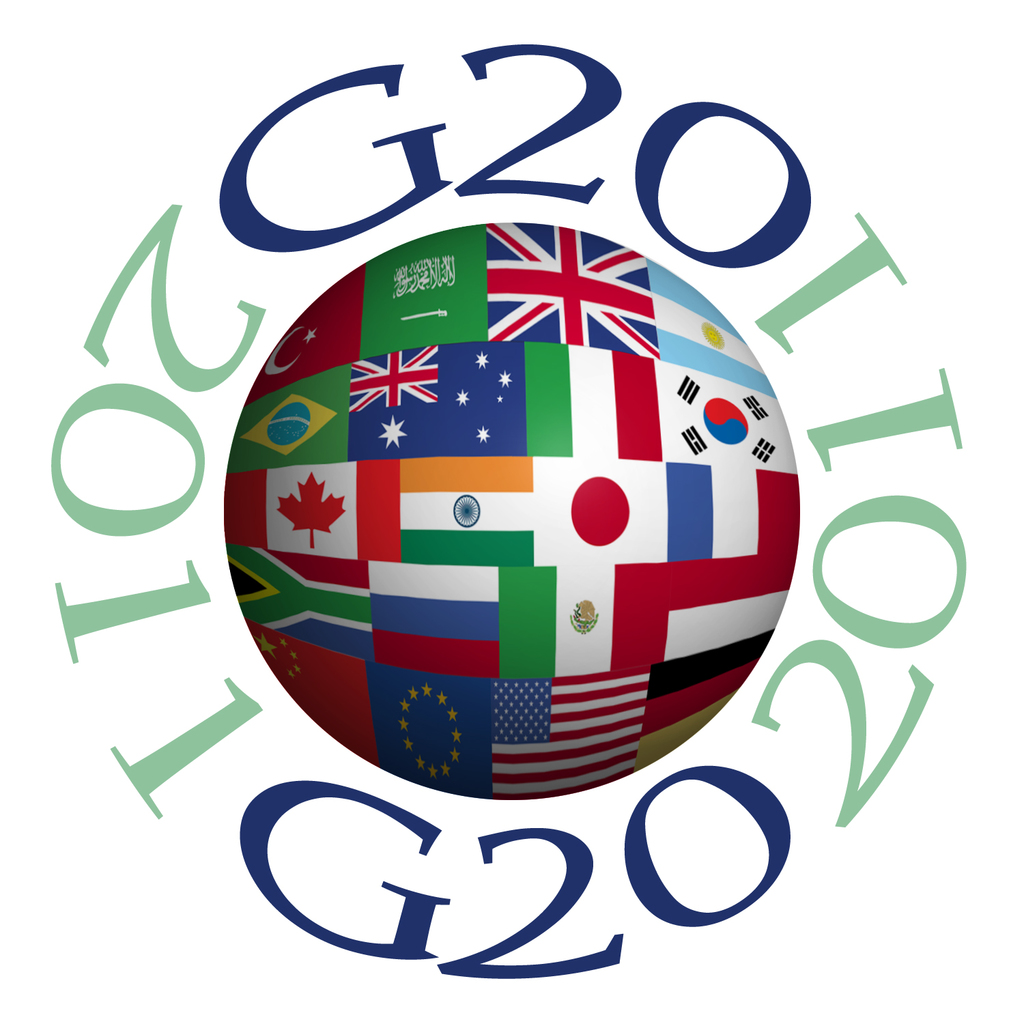Ball: (221, 225, 801, 797)
